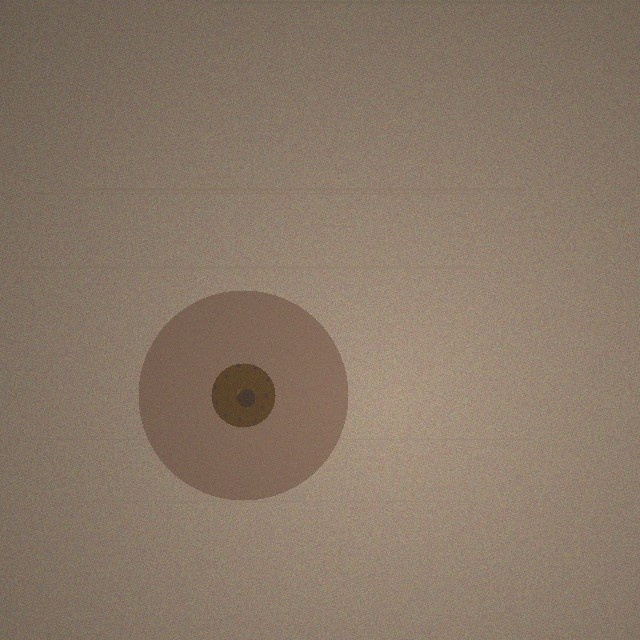cold_weld: (138, 290, 348, 500)
